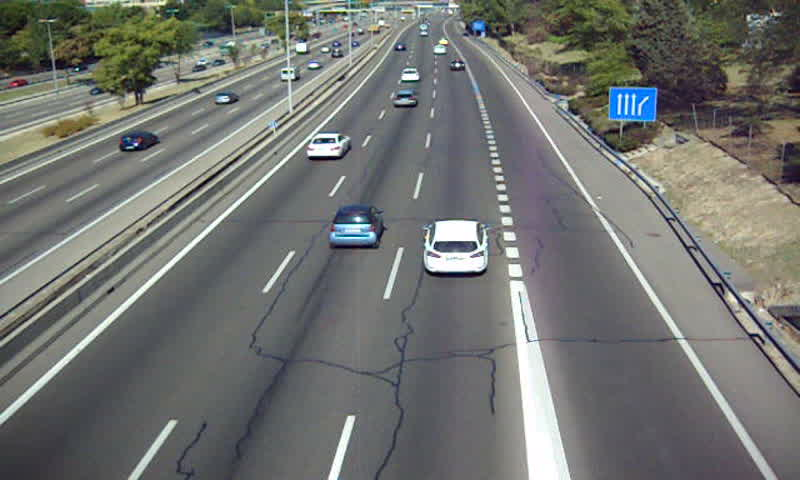car: (424, 219, 489, 271), (329, 206, 384, 250), (306, 132, 352, 160), (392, 89, 418, 108), (399, 68, 420, 84), (449, 58, 466, 71)
